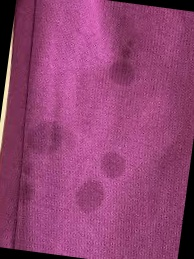oil: (25, 126, 68, 158), (110, 47, 143, 86), (74, 181, 108, 218), (20, 158, 45, 205), (101, 149, 122, 176)
